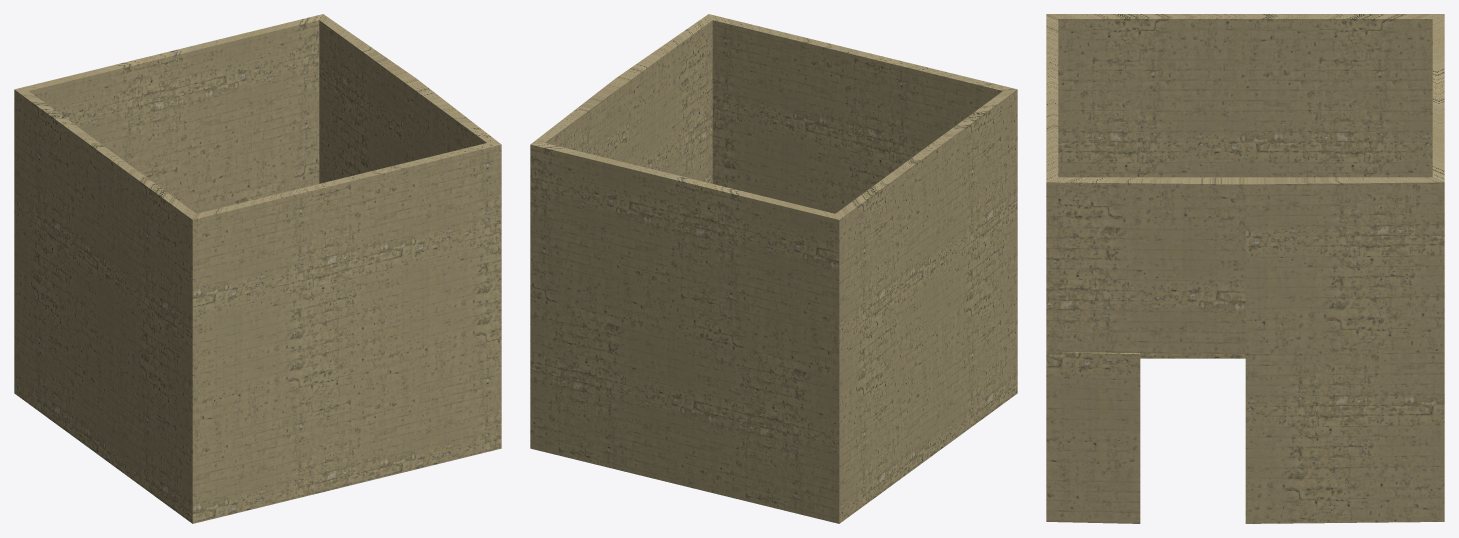
Rendered from single pose.fbx.
3 views of the same model, side by side, from view 1: azimuth 30°, elevation 25°; view 2: azimuth 150°, elevation 25°; view 3: azimuth 270°, elevation 25° (orthographic). The views are drawn at different scales.
Visible parts, largest first — view 1: Plane; view 2: Plane; view 3: Plane.
Boxes of the visible parts, left/top/right/bottom form: Plane: left=14, top=14, right=501, bottom=523; Plane: left=530, top=14, right=1017, bottom=523; Plane: left=1046, top=14, right=1444, bottom=523.
Size of the model in its own units: 215 by 200 by 213.
